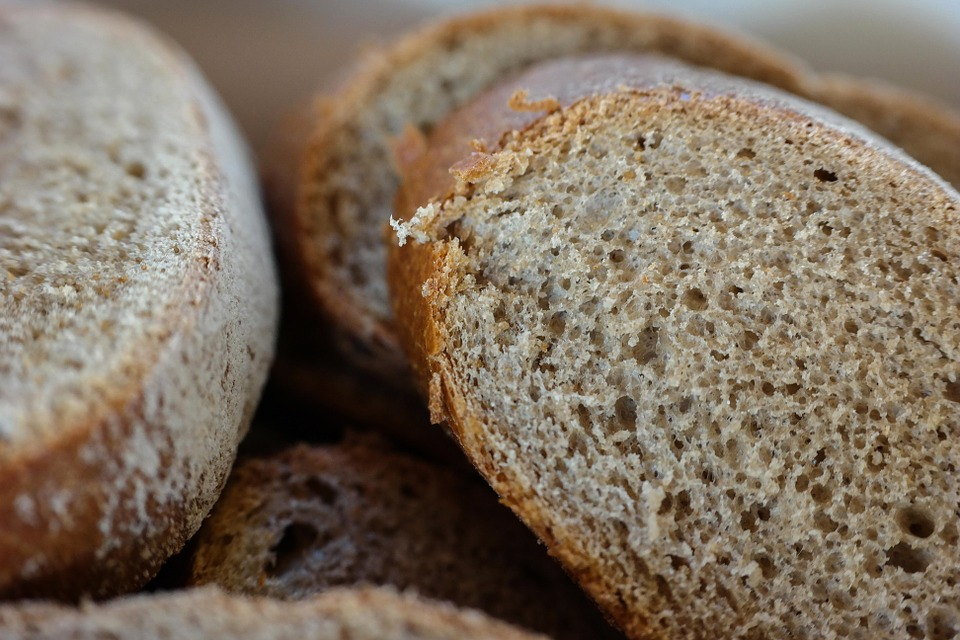slice of bread: (400, 68, 960, 624), (1, 5, 274, 563)
